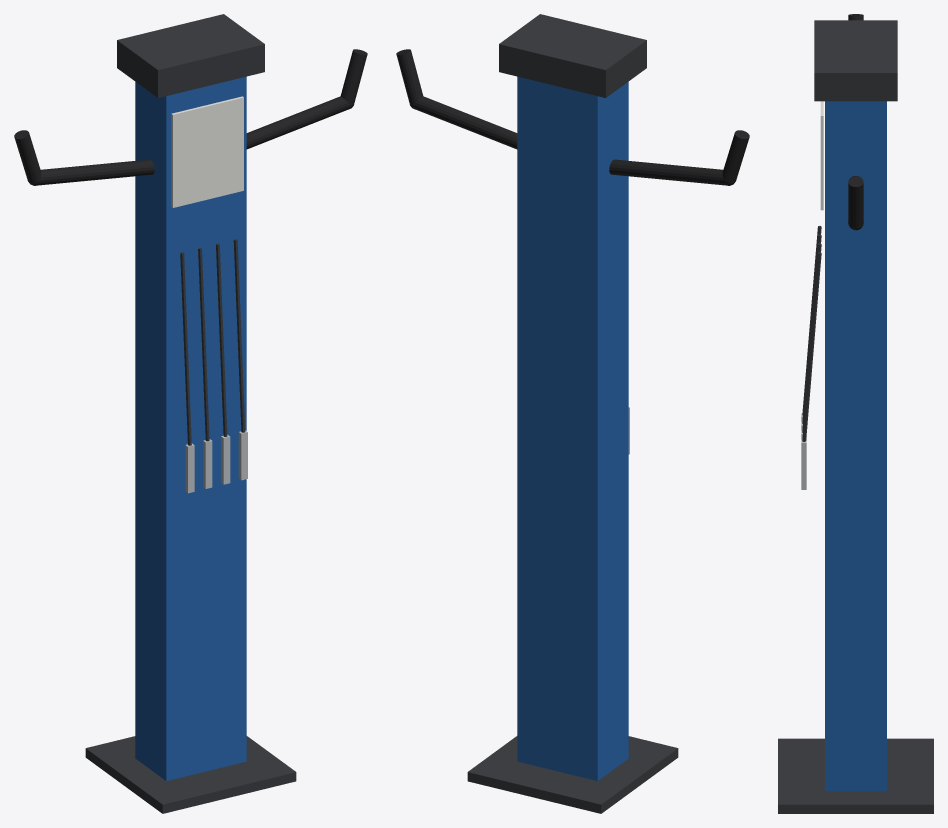
3 views of the same model, side by side, from view 1: azimuth 30°, elevation 25°; view 2: azimuth 150°, elevation 25°; view 3: azimuth 270°, elevation 25° (orthographic).
Visible parts, largest first — view 1: baseOffset=0;depth=0.3;height=1.6;material=steel_dark;power= (×5); view 2: baseOffset=0;depth=0.3;height=1.6;material=steel_dark;power= (×3); view 3: baseOffset=0;depth=0.3;height=1.6;material=steel_dark;power= (×5).
Part boxes in pixels (x1,y1,x2,y2): baseOffset=0;depth=0.3;height=1.6;material=steel_dark;power= (×5): (14, 14, 367, 813); baseOffset=0;depth=0.3;height=1.6;material=steel_dark;power= (×3): (396, 14, 749, 813); baseOffset=0;depth=0.3;height=1.6;material=steel_dark;power= (×5): (778, 14, 933, 813).
Size of the model in its own units: 0.7887 by 0.3 by 1.56.
